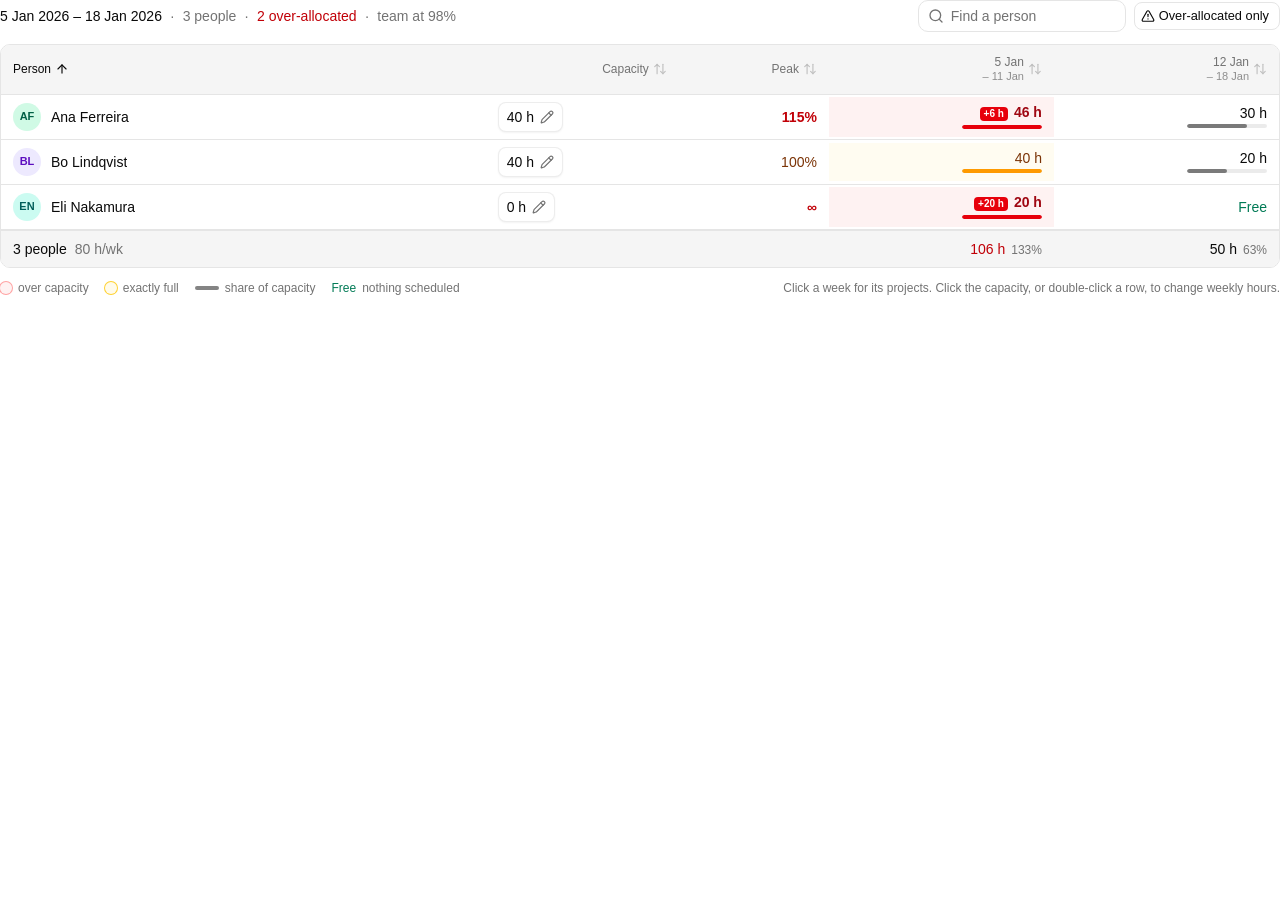
Test case: CapacityGrid › editing weekly hours › updates the capacity, the overage and the count in place, without refetching
expect the text "2 over-allocated" is shown: met, box [257,8,357,24]
Click the button "40 h" in the row of "AF" at (530, 117), box [498,102,563,132]
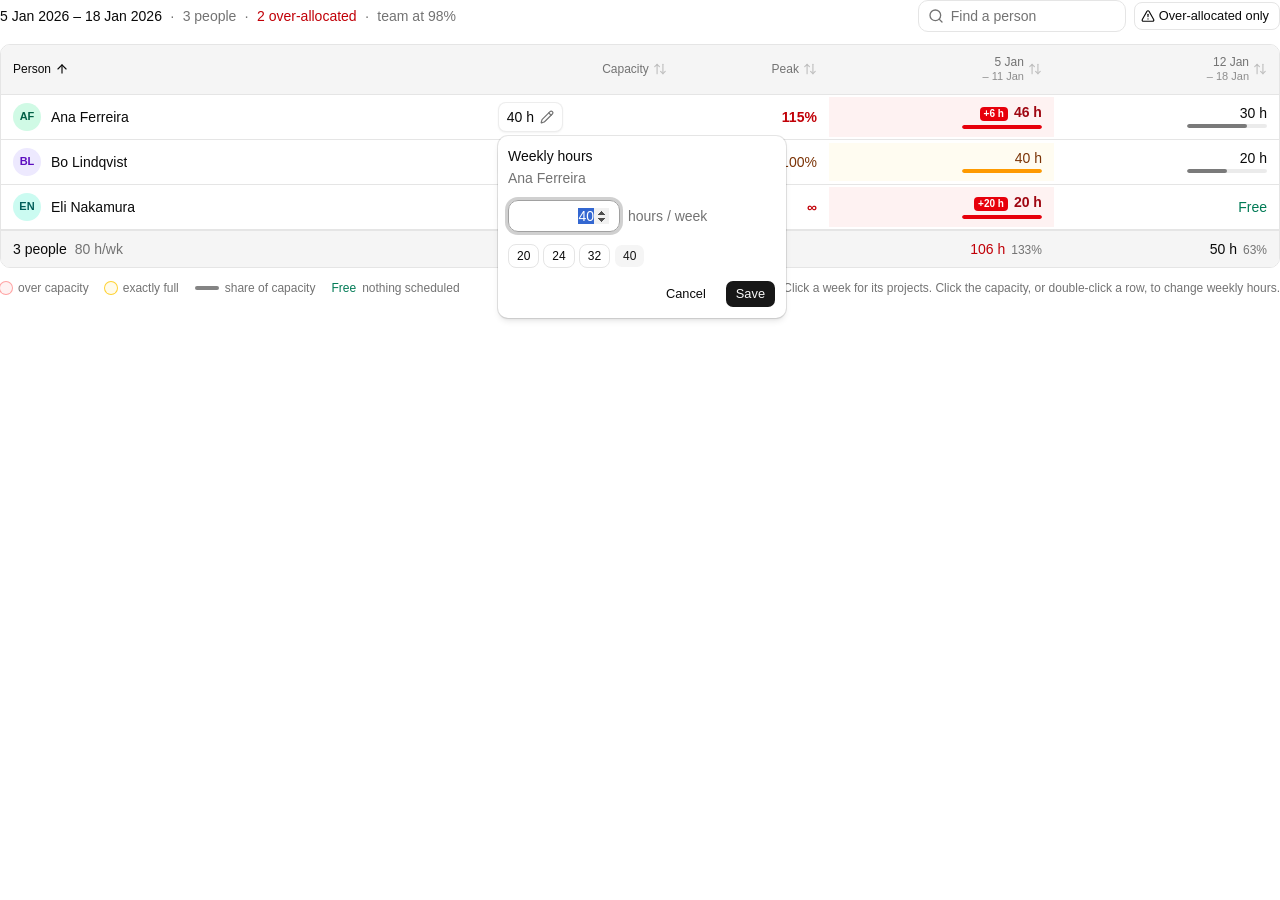
Replace the text in the number field named "Weekly hours" with "48" at (564, 216), box [508,200,620,232]
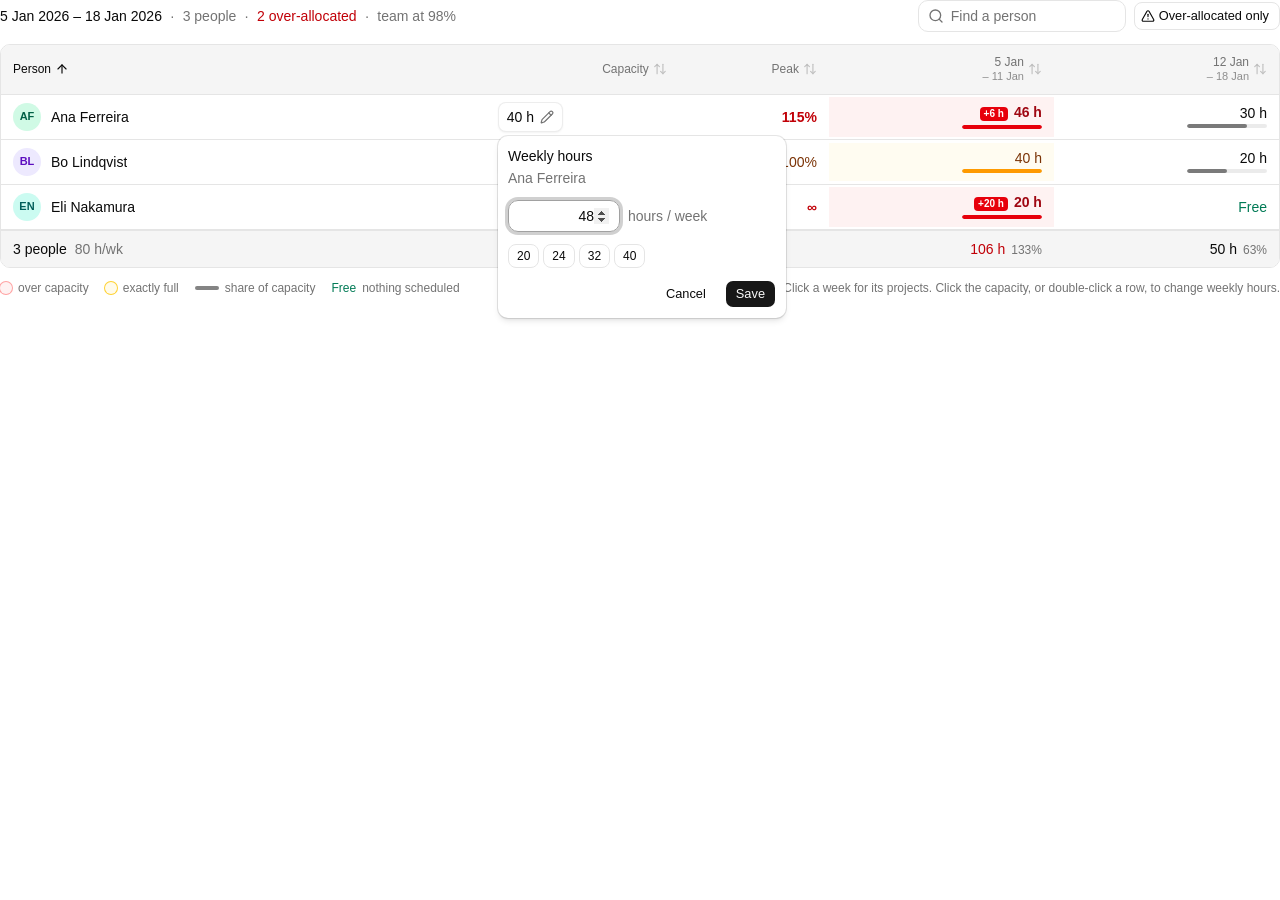
Click the button "Save" at (750, 294), box [725,280,776,308]
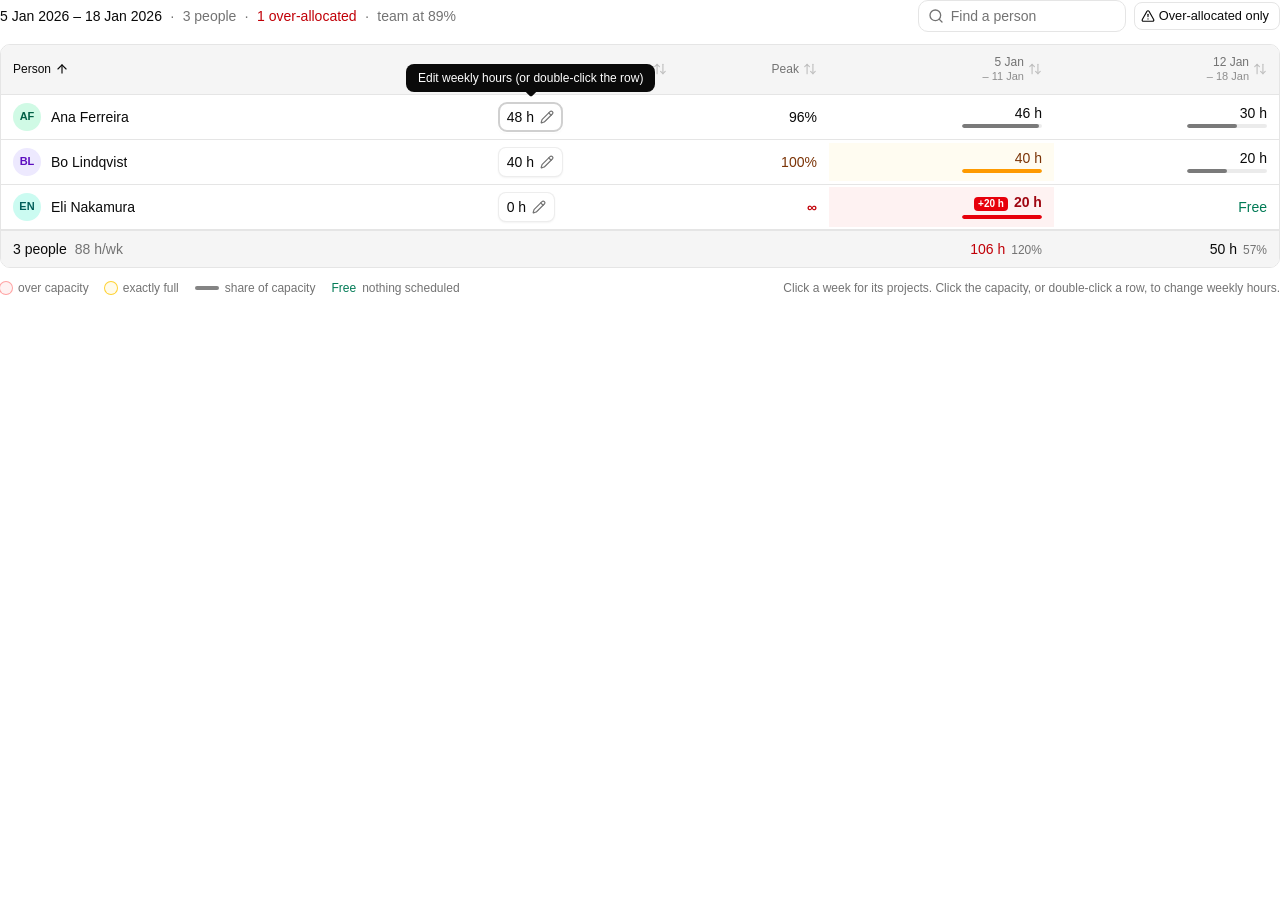
expect the text "1 over-allocated" is shown: met, box [257,8,357,24]
expect the text "+6 h" is gone: met
